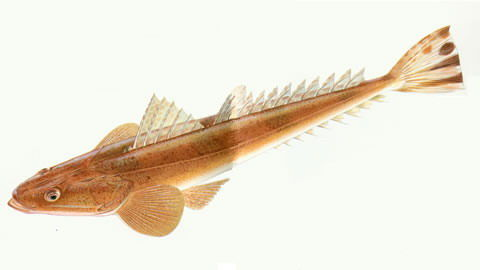fish: (8, 24, 466, 238)
